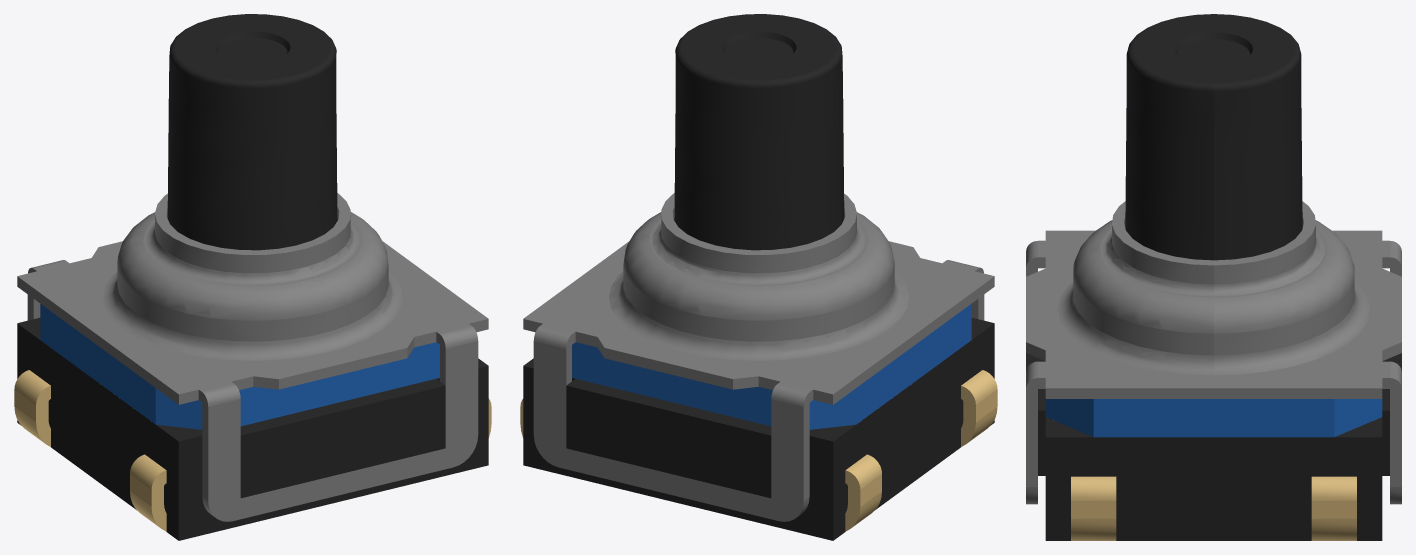
The model's file is kc-sw_push_1p1t_no_ck_ksc6xxj.glb.
3 renders of one model, left to right at view 1: azimuth 30°, elevation 25°; view 2: azimuth 150°, elevation 25°; view 3: azimuth 270°, elevation 25°, orthographic. The views are drawn at different scales.
Parts seen in each view (by area): view 1: 0_0_0_0, 0.25_0.25_0.25_0, 0_0.16666666666666666_0.5_0, 0.75_0.5_0.25_0.9; view 2: 0_0_0_0, 0.25_0.25_0.25_0, 0_0.16666666666666666_0.5_0, 0.75_0.5_0.25_0.9; view 3: 0_0_0_0, 0.25_0.25_0.25_0, 0_0.16666666666666666_0.5_0, 0.75_0.5_0.25_0.9.
Boxes of the visible parts, x1,y1,x2,y2 form: 0_0_0_0: (17, 14, 488, 540); 0.25_0.25_0.25_0: (17, 193, 488, 521); 0_0.16666666666666666_0.5_0: (40, 304, 439, 429); 0.75_0.5_0.25_0.9: (14, 370, 491, 531); 0_0_0_0: (523, 14, 994, 540); 0.25_0.25_0.25_0: (523, 193, 994, 521); 0_0.16666666666666666_0.5_0: (572, 304, 971, 429); 0.75_0.5_0.25_0.9: (520, 370, 997, 531); 0_0_0_0: (1026, 14, 1401, 540); 0.25_0.25_0.25_0: (1026, 201, 1401, 504); 0_0.16666666666666666_0.5_0: (1045, 399, 1382, 437); 0.75_0.5_0.25_0.9: (1071, 476, 1356, 540).
Size of the model in its own units: 0.68 by 0.768 by 0.625.
